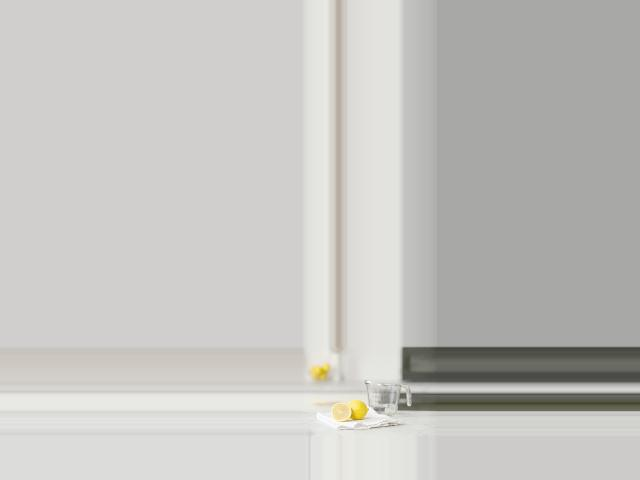lemon: (343, 399, 369, 419)
